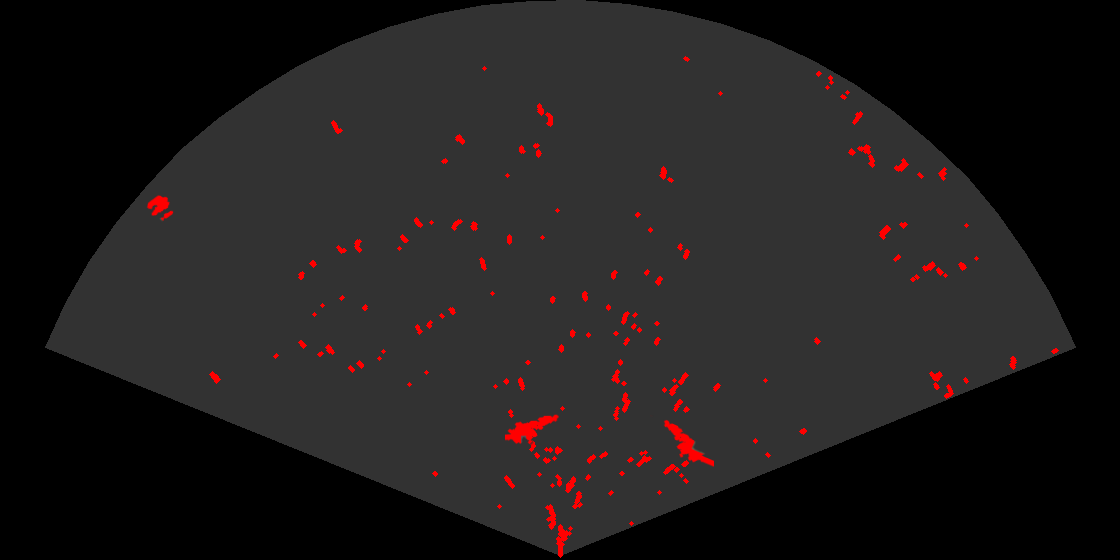ball: (145, 193, 175, 222)
frogman: (650, 415, 714, 468), (505, 413, 559, 446)
